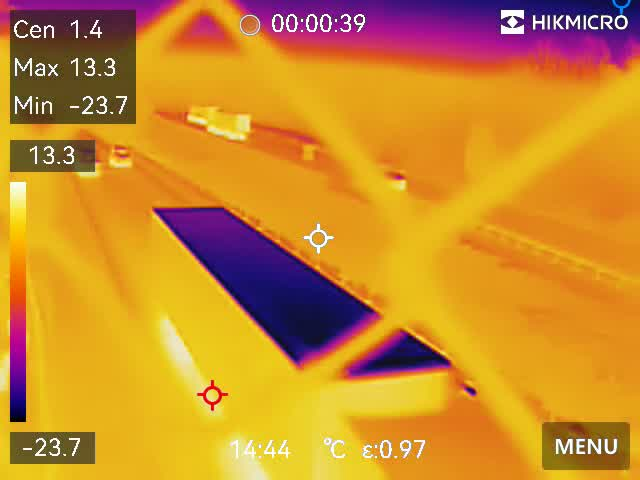heavyTruck: (144, 199, 517, 480), (206, 111, 253, 140), (184, 103, 219, 123)
vehicle: (71, 148, 112, 186), (371, 168, 413, 194), (107, 142, 142, 172)
